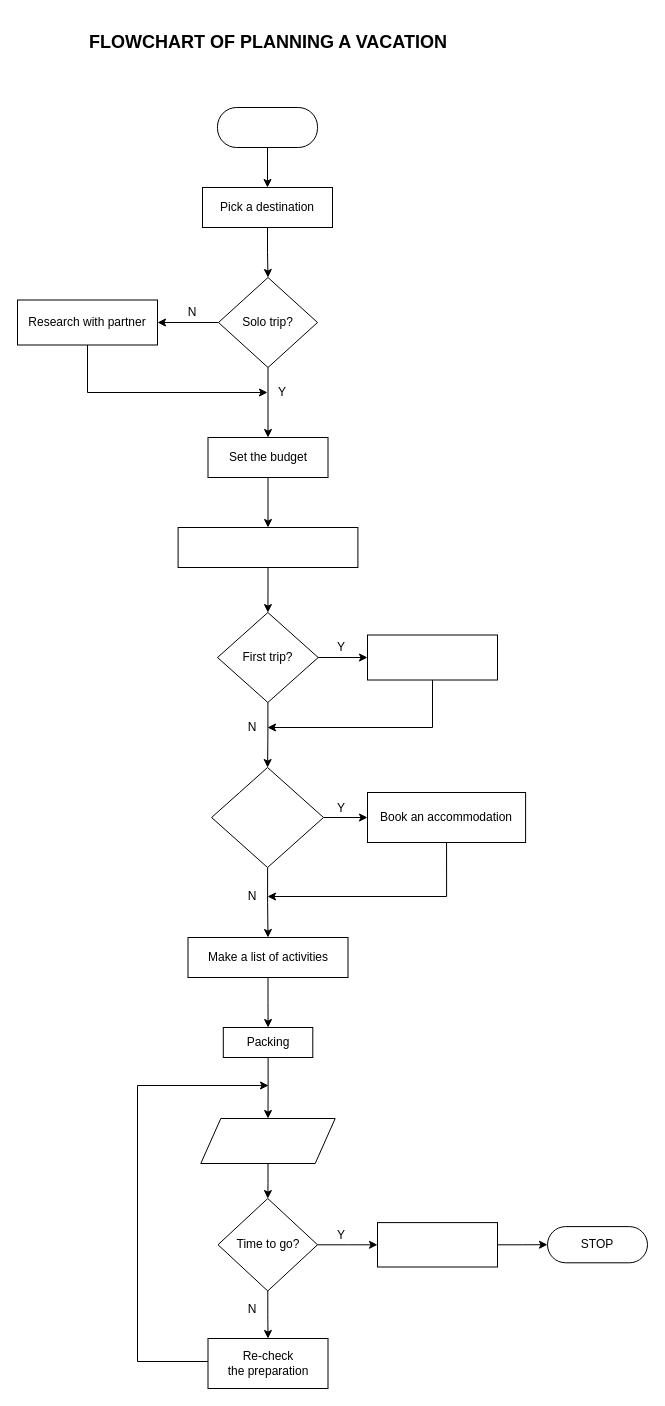
Image size: 665x1406. Some labels were removed from this diagram. Each missing label, with the centre of its shape:
"Check schedule" goes at point (267, 1141).
"Find a date & schedule it" goes at point (267, 547).
"Go on vacation" goes at point (437, 1244).
"Long periods?" goes at point (267, 817).
"Look for a tour guide" goes at point (432, 657).
"START" goes at point (267, 127).
